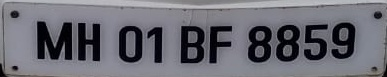character: (34, 19, 74, 60), (75, 19, 101, 62), (117, 23, 143, 63), (178, 23, 204, 63), (207, 23, 231, 64), (330, 21, 355, 59), (247, 25, 271, 63), (276, 24, 300, 62), (303, 23, 327, 60), (146, 24, 163, 64)
